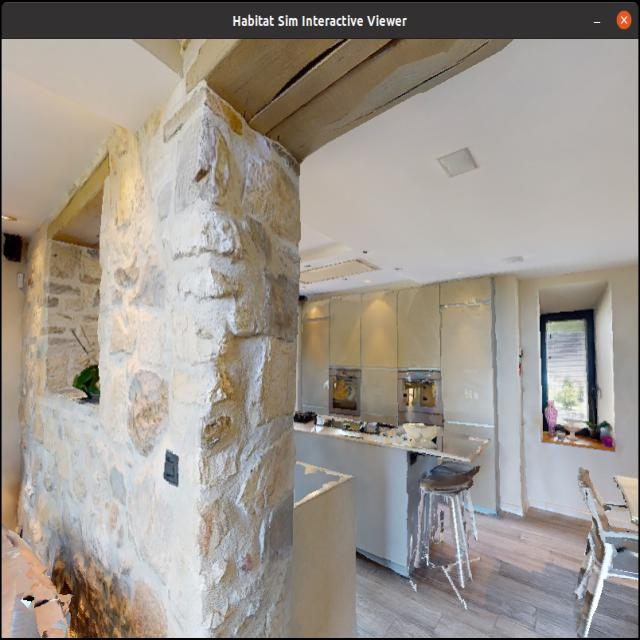chair: (570, 462, 640, 640), (419, 446, 483, 618)
door-frame: (231, 38, 635, 640)
table: (302, 390, 486, 491)
